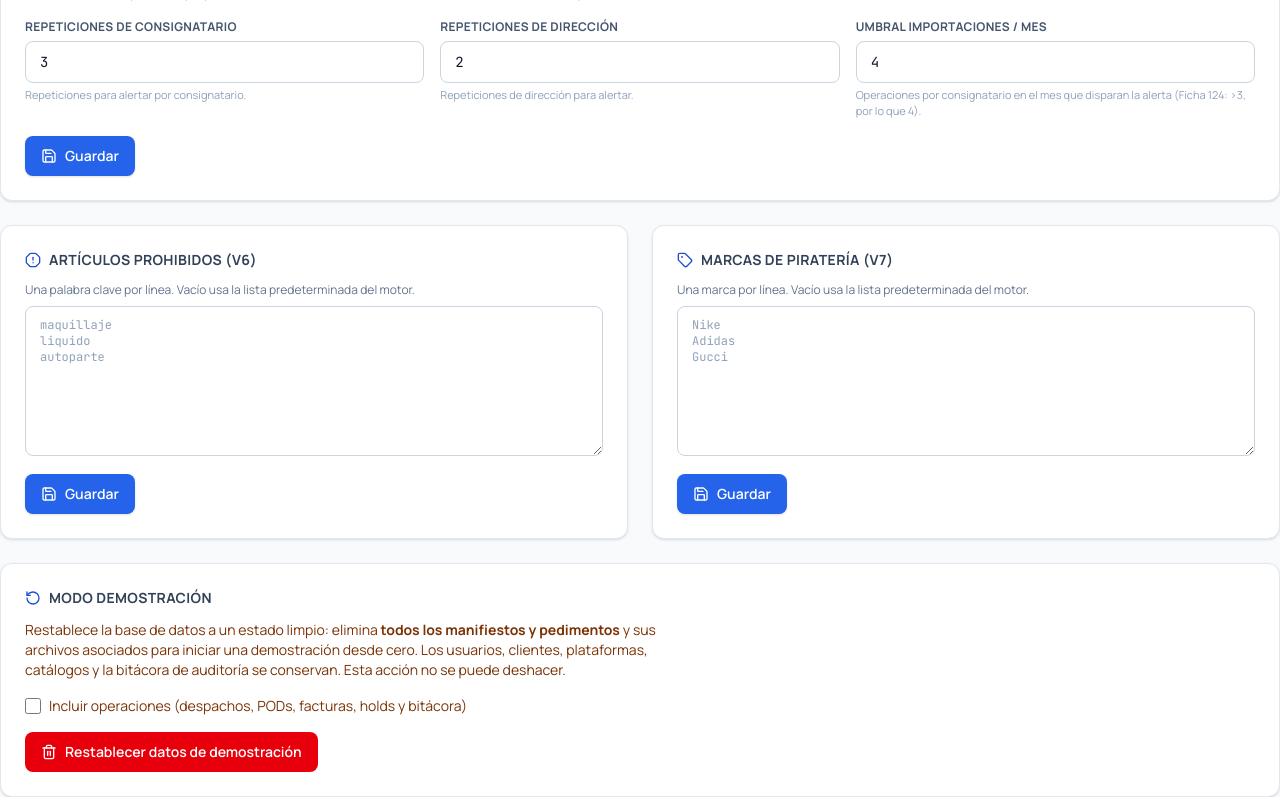
Test: ConfigurationView — Modo demostración (demo-reset card) › shows the card for an admin in demo mode; the confirm button is gated on typing BORRAR
(page scrolled)
Expected: the heading "Modo demostración" is shown, [25,588,212,606]
// Open the confirm modal.
Click the button "Restablecer datos de demostración" at [171, 752], box [25,732,318,772]
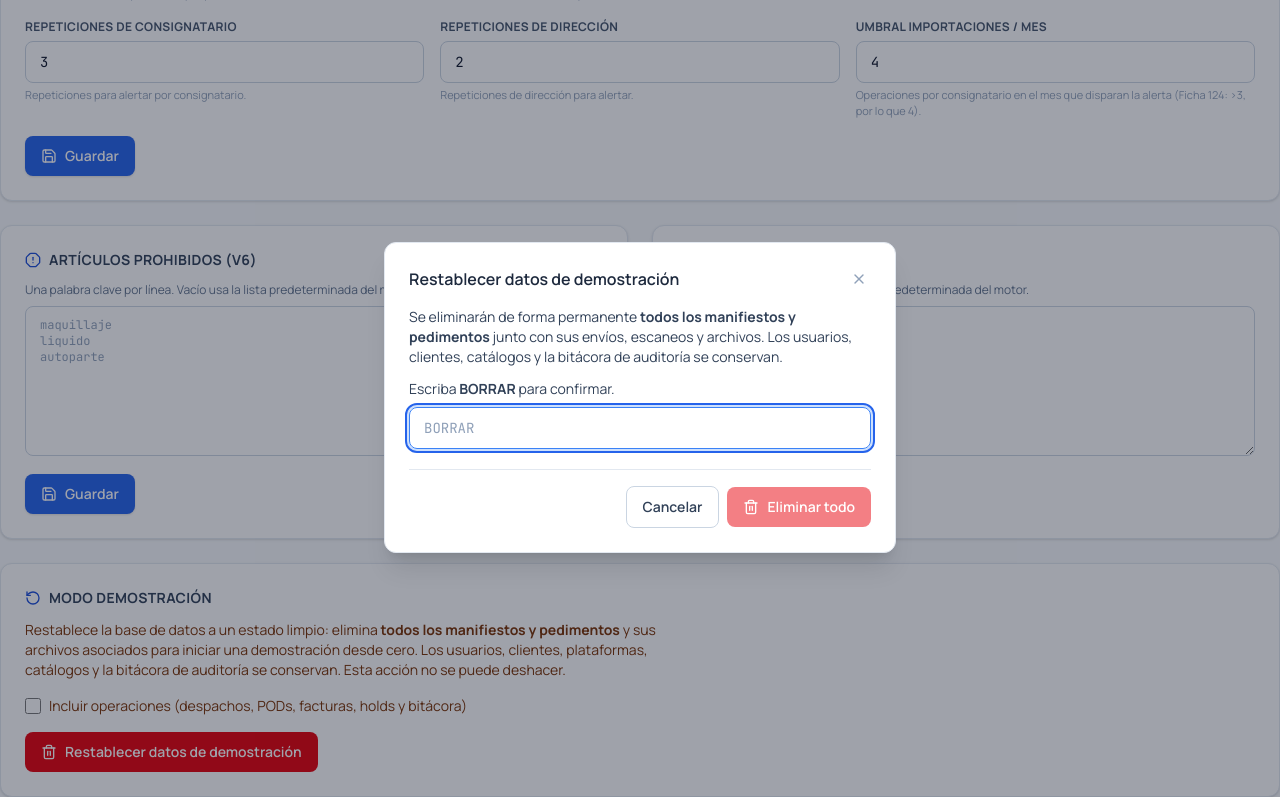
Now the button "Eliminar todo" is disabled, box [728,486,871,526]
// Wrong text keeps it disabled.
Type "borrar" into the field named "Confirmar escribiendo BORRAR" at [640, 428], box [409,406,871,448]
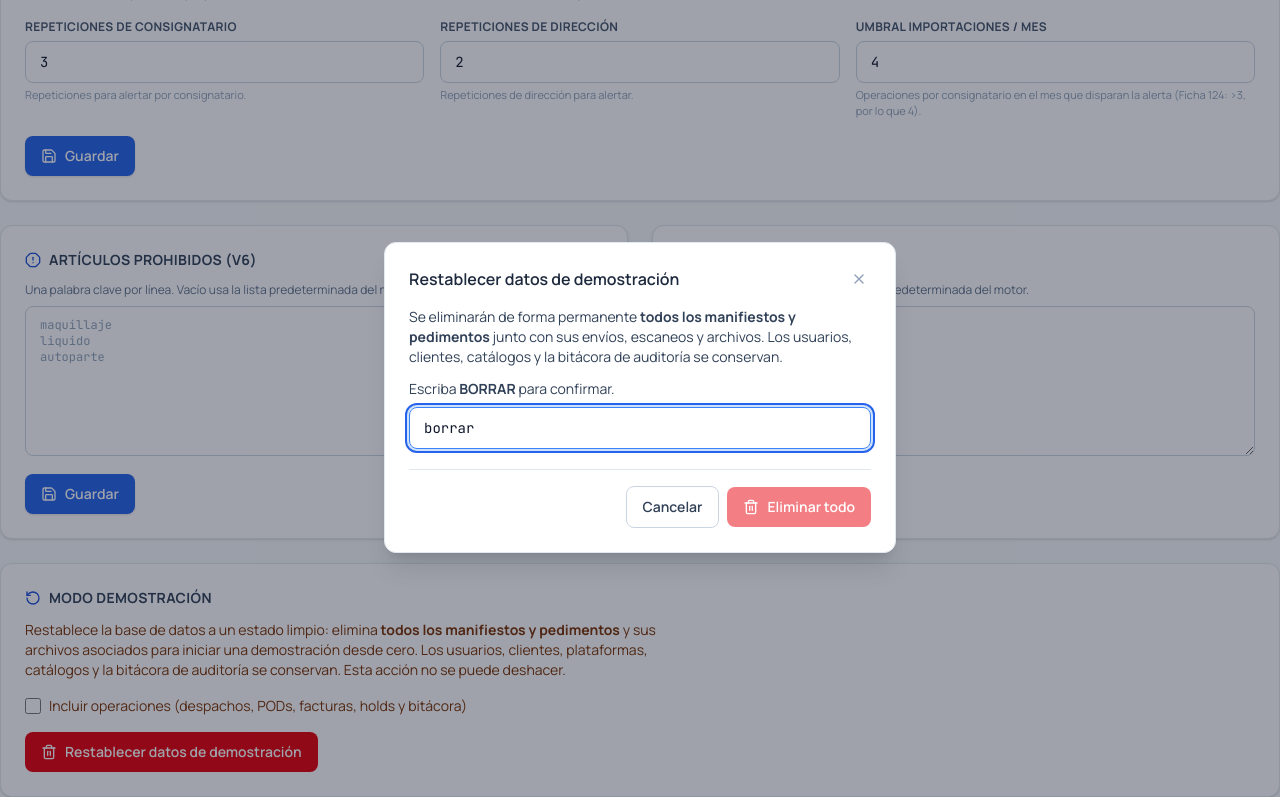
Now the button "Eliminar todo" is disabled, box [728,486,871,526]
// Exact word enables it.
Replace the text in the field named "Confirmar escribiendo BORRAR" with "BORRAR" at [640, 428], box [409,406,871,448]
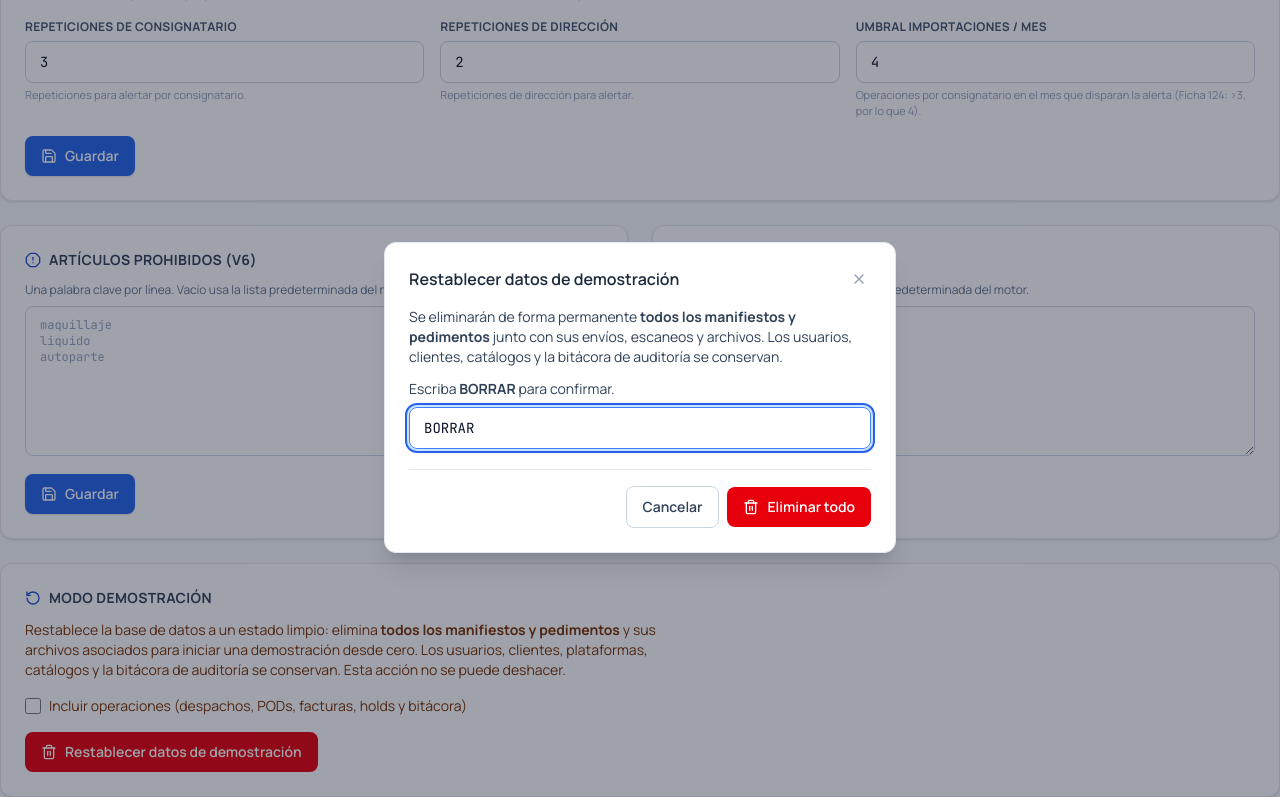
Now the button "Eliminar todo" is enabled, box [728,486,871,526]
